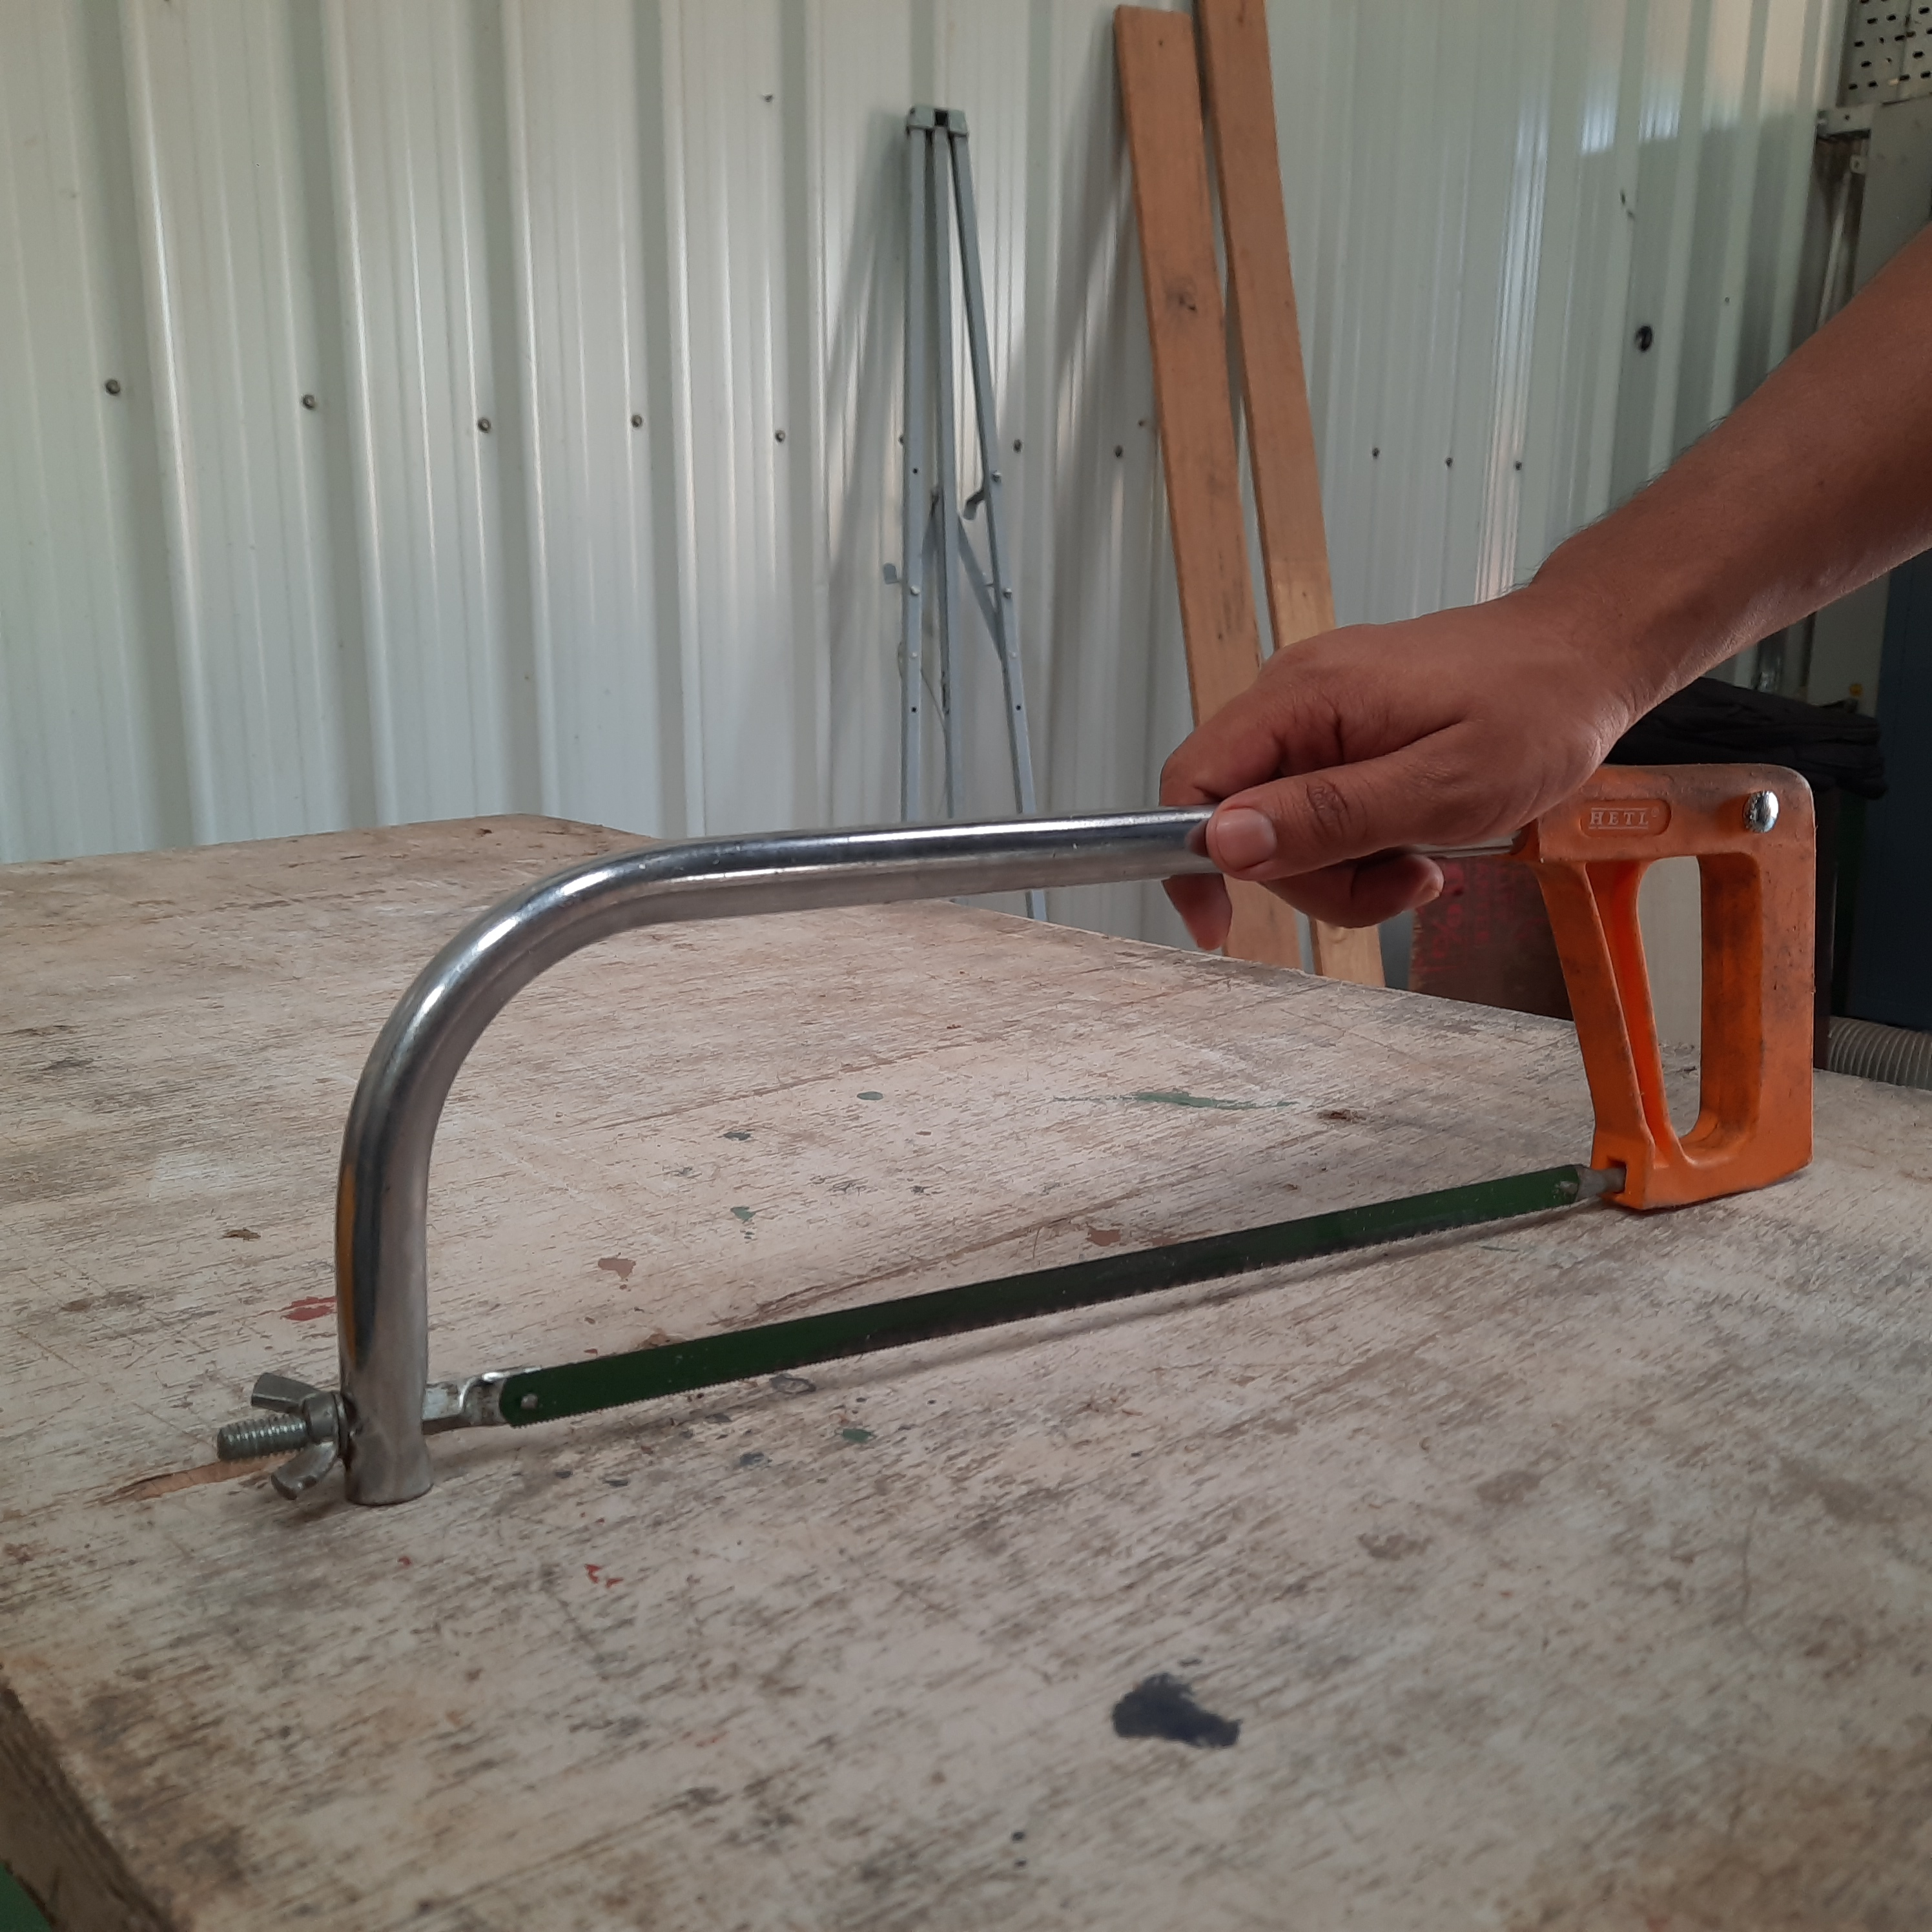Hexaframe: (221, 764, 1822, 1499)
